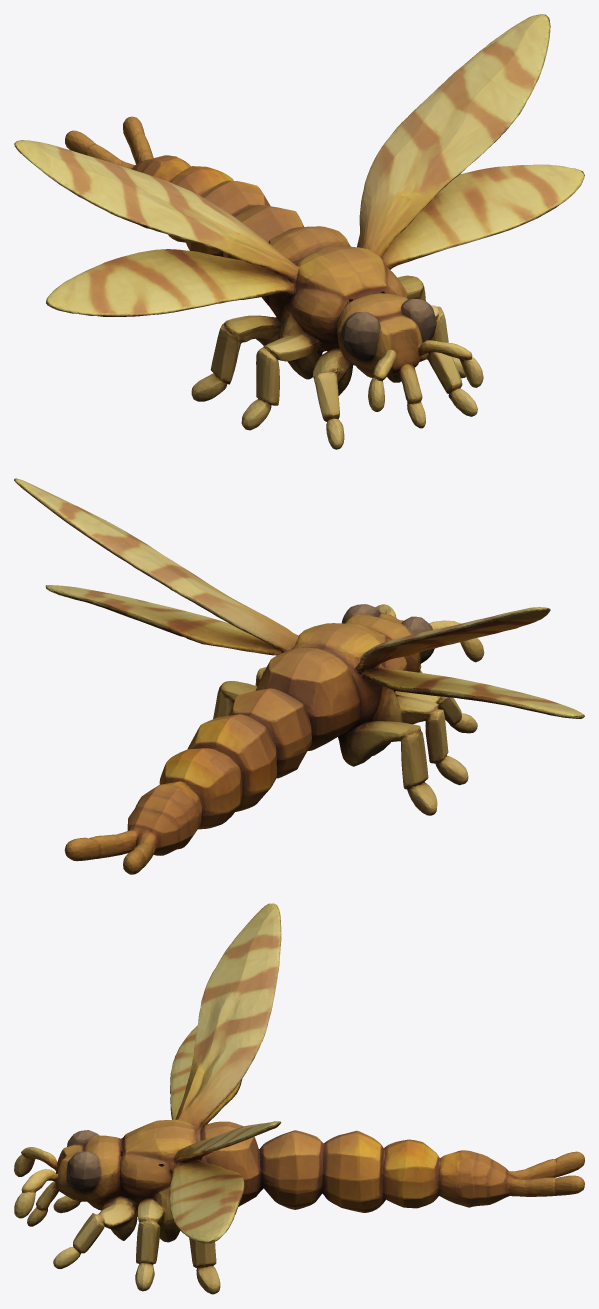
The picture shows the model from 3 angles, top to bottom: view 1: azimuth 30°, elevation 25°; view 2: azimuth 150°, elevation 25°; view 3: azimuth 270°, elevation 25°; orthographic projection. The views are drawn at different scales.
Parts seen in each view (by area): view 1: world; view 2: world; view 3: world.
Boxes of the visible parts, x1,y1,x2,y2 form: world: [14, 14, 584, 449]; world: [14, 478, 584, 874]; world: [14, 903, 584, 1294].
Bounding box in the file's own units: 0.9347 × 0.4489 × 1.
1 material, 1 textured.
